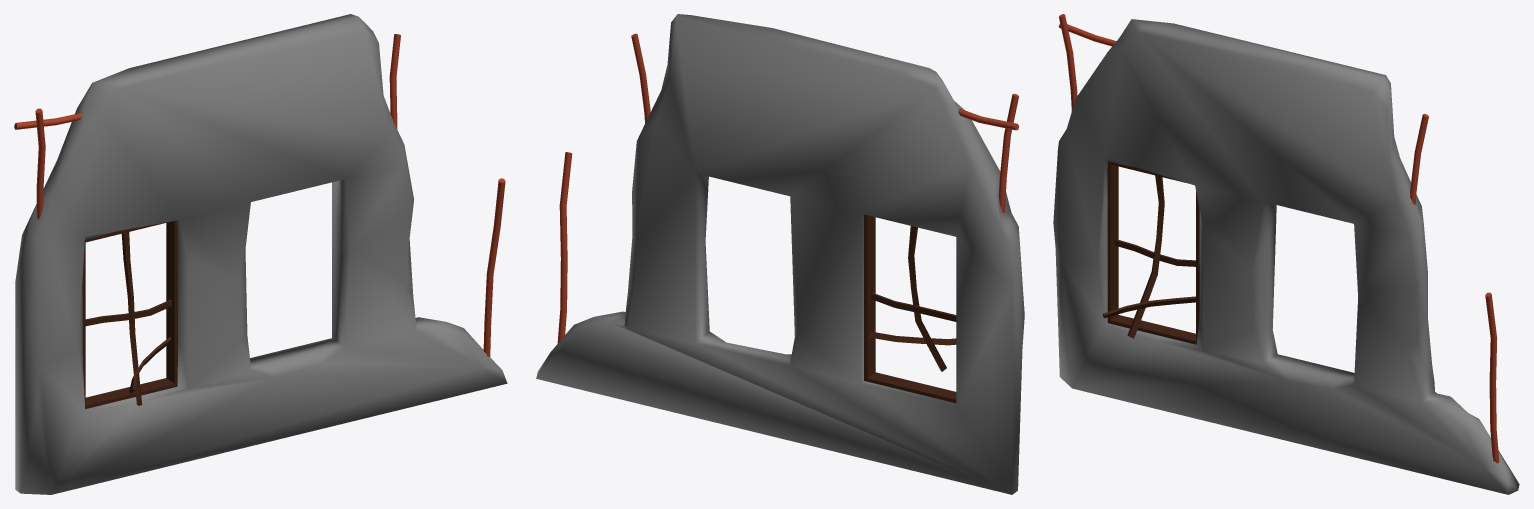
The model's file is SM_wall_windows_broken_02.fbx.
3 renders of one model, left to right at view 1: azimuth 30°, elevation 25°; view 2: azimuth 150°, elevation 25°; view 3: azimuth 330°, elevation 25°, orthographic. The views are drawn at different scales.
Visible parts, largest first — view 1: Object017; view 2: Object017; view 3: Object017.
Boxes of the visible parts, bbox=[...] form: Object017: bbox=[14, 14, 507, 494]; Object017: bbox=[536, 14, 1024, 494]; Object017: bbox=[1053, 14, 1519, 494].
Bounding box in the file's own units: 177 × 138 × 24.94.
